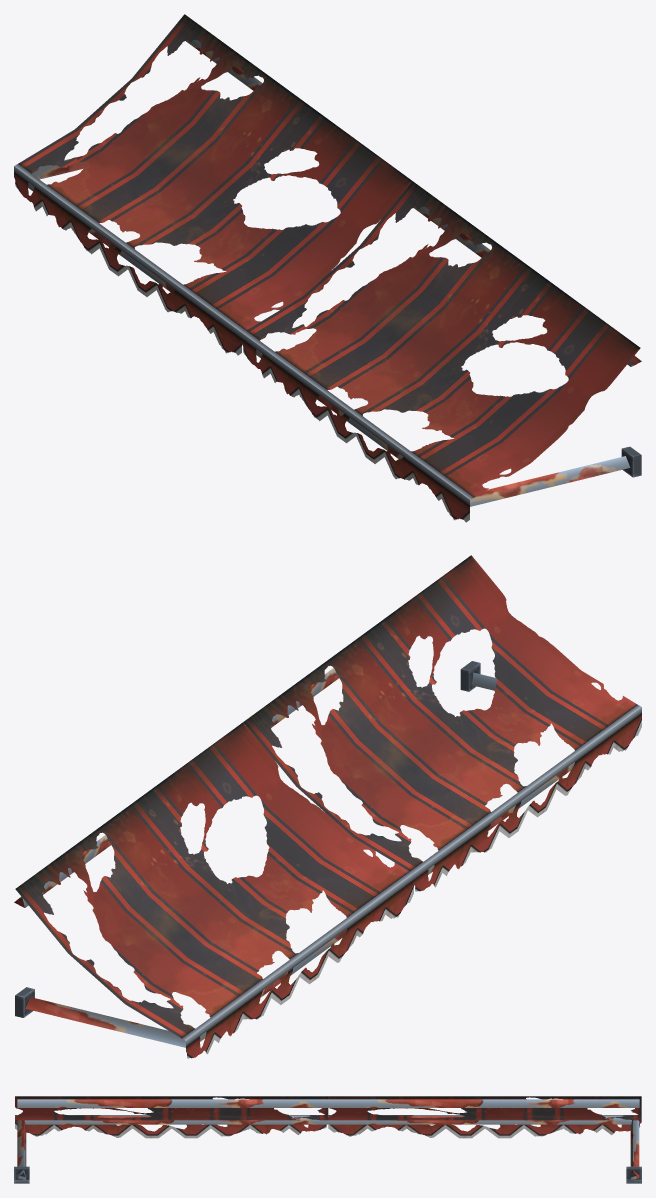
File: awning03_6m.fbx
The picture shows the model from 3 angles, top to bottom: view 1: azimuth 30°, elevation 25°; view 2: azimuth 150°, elevation 25°; view 3: azimuth 270°, elevation 25°; orthographic projection. The views are drawn at different scales.
Visible parts, largest first — view 1: awning03_6m; view 2: awning03_6m; view 3: awning03_6m.
Boxes of the visible parts, bbox=[...] form: awning03_6m: bbox=[14, 14, 641, 522]; awning03_6m: bbox=[14, 555, 641, 1058]; awning03_6m: bbox=[14, 1096, 641, 1183].
Bounding box in the file's own units: 132 × 105 × 603.
